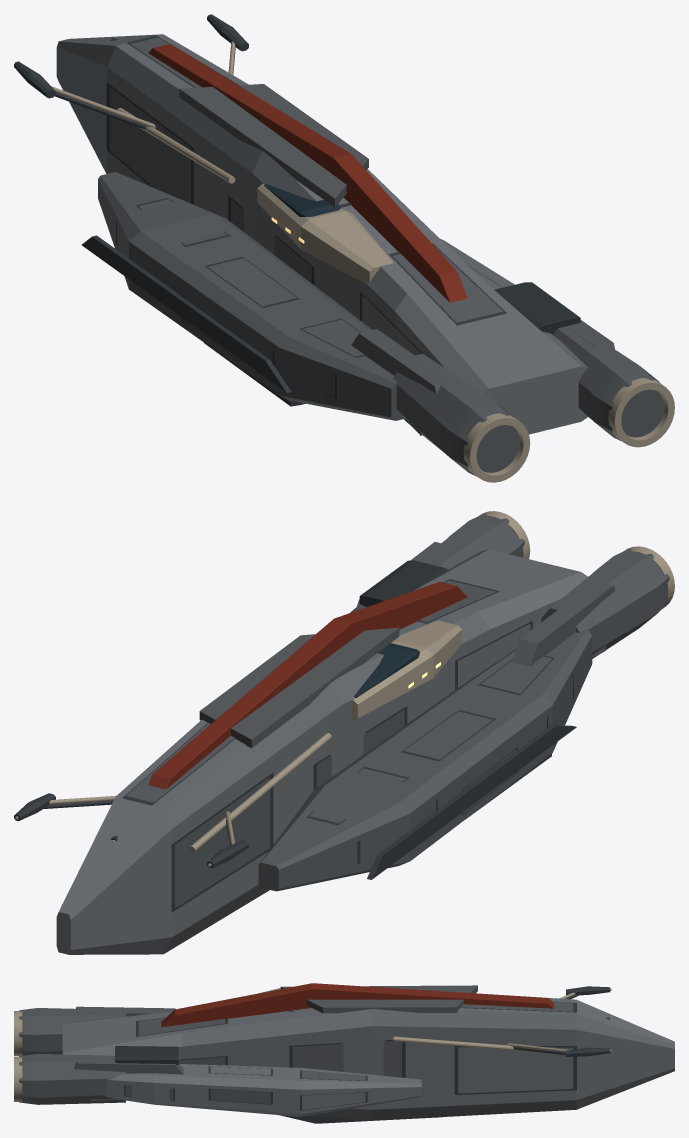
File: destroyer_forge_hammer.glb
3 views of the same model, one above another, from view 1: azimuth 30°, elevation 25°; view 2: azimuth 150°, elevation 25°; view 3: azimuth 270°, elevation 25° (orthographic). The views are drawn at different scales.
Parts seen in each view (by area): view 1: v4_forge_secondary, v4_forge_hull, v4_forge_trim, v4_forge_paint, v4_forge_dark, v4_forge_ceramic, v4_forge_glass; view 2: v4_forge_secondary, v4_forge_hull, v4_forge_dark, v4_forge_paint, v4_forge_trim, v4_forge_ceramic, v4_forge_glass; view 3: v4_forge_hull, v4_forge_secondary, v4_forge_paint, v4_forge_dark, v4_forge_trim, v4_forge_ceramic.
Part boxes in pixels (<box>): v4_forge_secondary: <box>56,37,664,476</box>; v4_forge_hull: <box>56,34,588,434</box>; v4_forge_trim: <box>51,41,674,482</box>; v4_forge_paint: <box>148,44,467,302</box>; v4_forge_dark: <box>14,14,506,406</box>; v4_forge_ceramic: <box>495,282,580,333</box>; v4_forge_glass: <box>264,184,340,216</box>; v4_forge_secondary: <box>52,513,669,908</box>; v4_forge_hull: <box>56,549,587,954</box>; v4_forge_dark: <box>14,579,576,912</box>; v4_forge_paint: <box>148,581,467,789</box>; v4_forge_trim: <box>14,511,674,867</box>; v4_forge_ceramic: <box>359,560,449,606</box>; v4_forge_glass: <box>354,643,419,697</box>; v4_forge_hull: <box>62,996,674,1120</box>; v4_forge_secondary: <box>19,985,573,1104</box>; v4_forge_paint: <box>161,983,553,1027</box>; v4_forge_dark: <box>124,986,610,1123</box>; v4_forge_trim: <box>14,988,611,1101</box>; v4_forge_ceramic: <box>115,1046,178,1064</box>.
Size of the model in its own units: 18.65 by 14.76 by 65.73.
